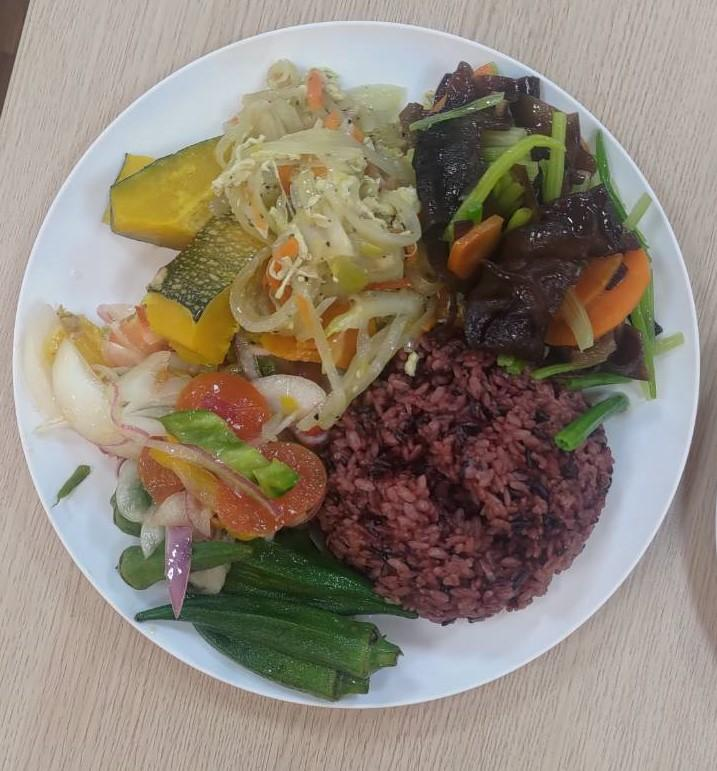big fried chicken leg: (15, 14, 706, 712)
braised fish: (297, 355, 614, 624)
braised fish fillet: (424, 60, 658, 388), (37, 322, 325, 537), (237, 67, 426, 363), (116, 520, 396, 700), (112, 130, 260, 357)
